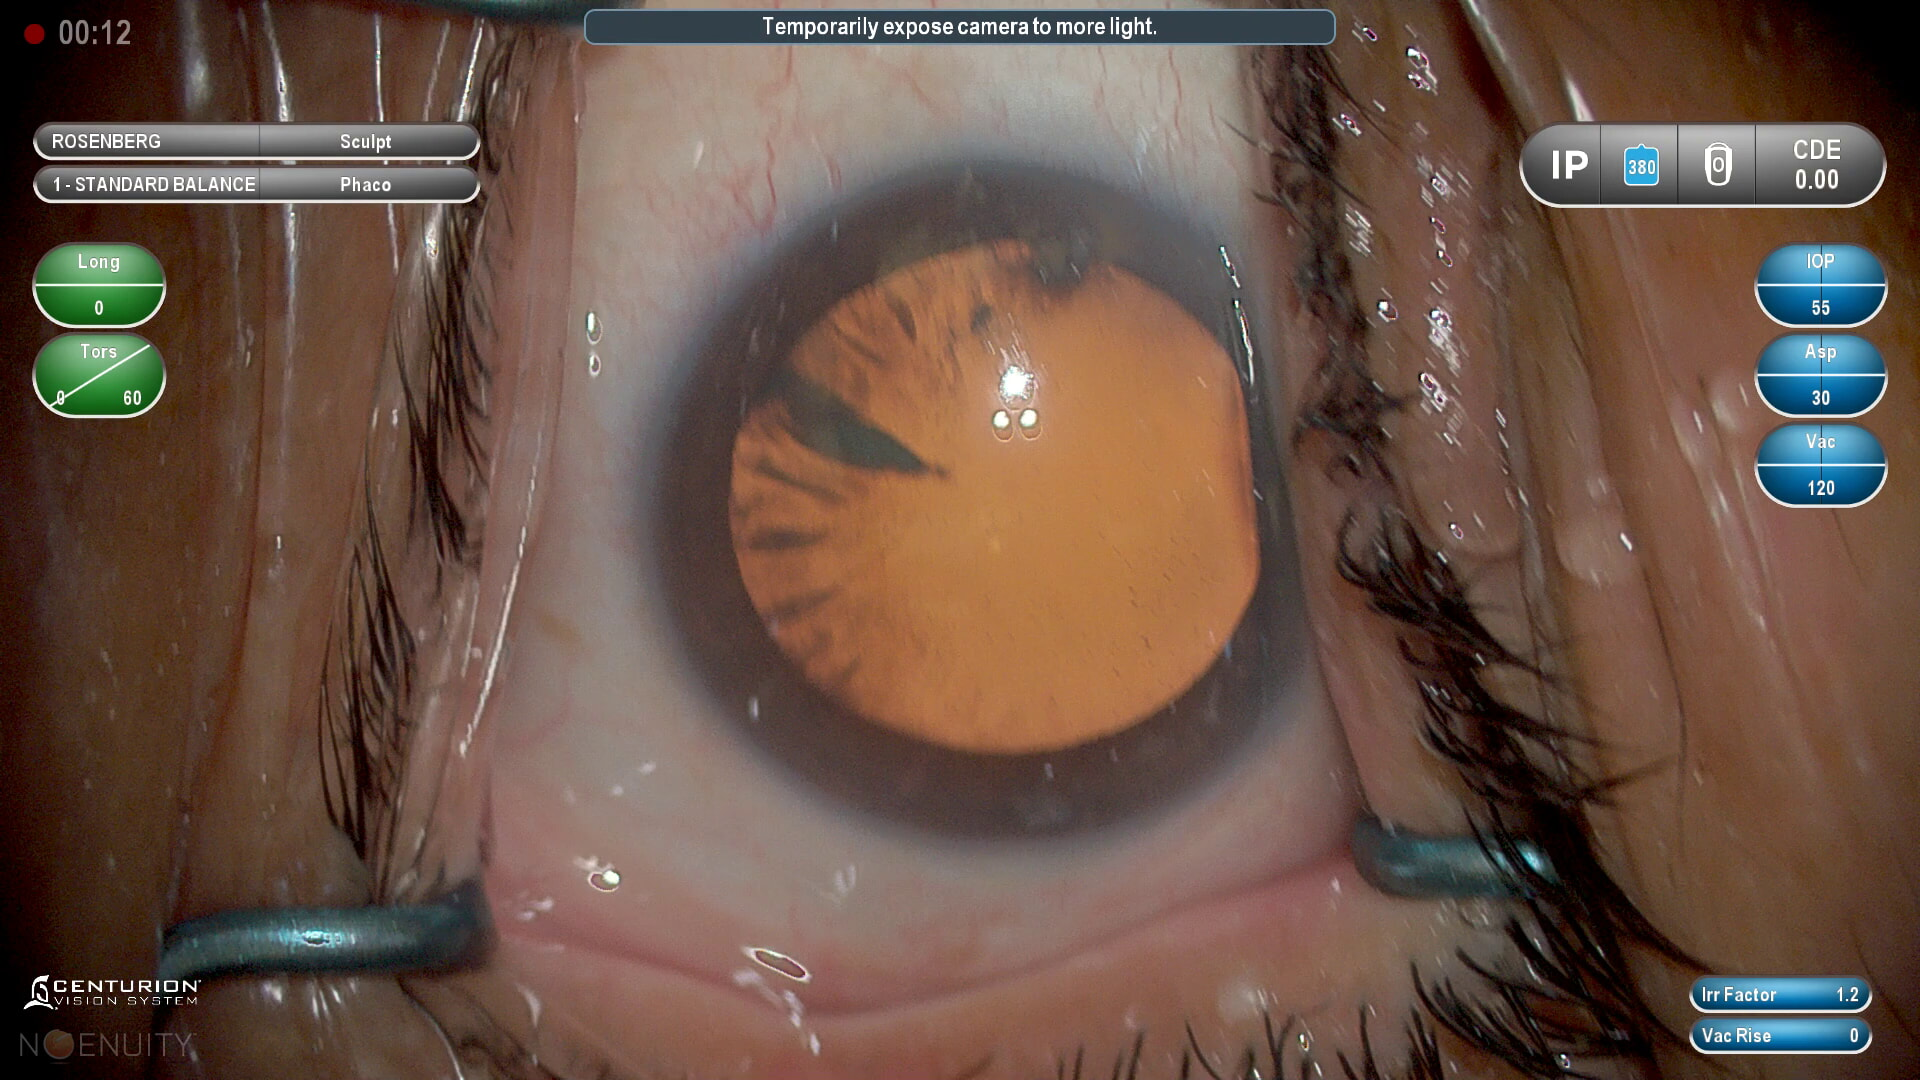iris: (664, 167, 1320, 841)
pupil: (725, 238, 1269, 753)
